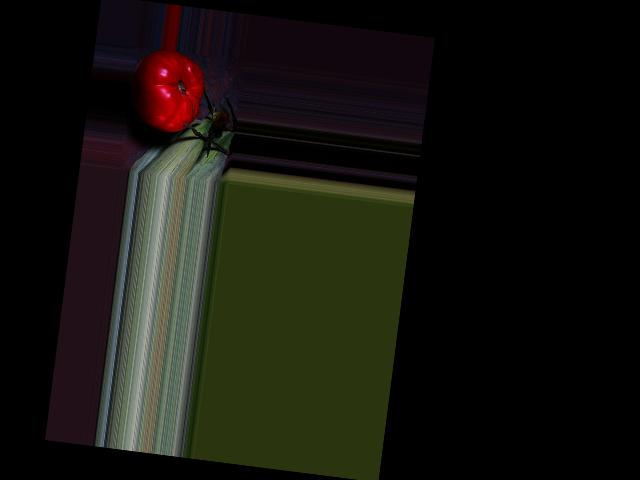tomato: (125, 46, 207, 136)
